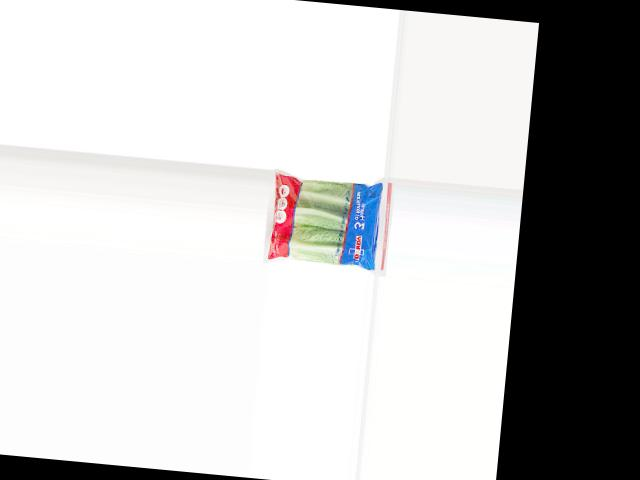lettuce: (262, 170, 385, 271)
